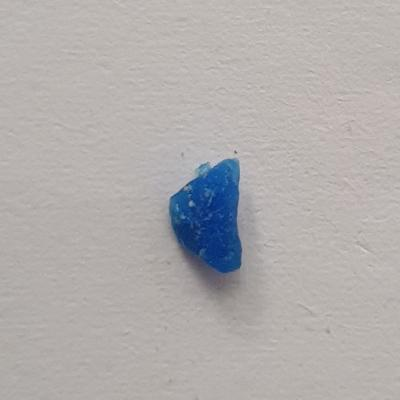plastic: (164, 152, 252, 281)
